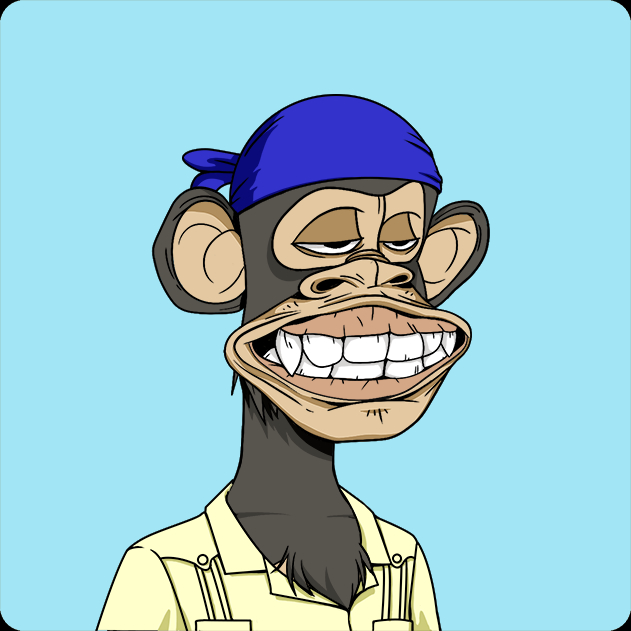Dress: (93, 477, 449, 631)
Eyes: (284, 202, 429, 269)
Head: (171, 93, 484, 215)
Mouth: (212, 285, 484, 432)
